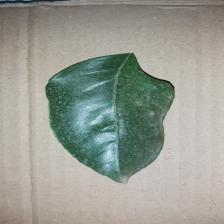healthy: (41, 51, 180, 187)
